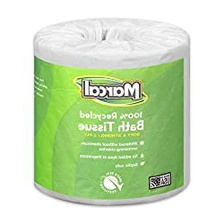tissue: (25, 11, 197, 212)
